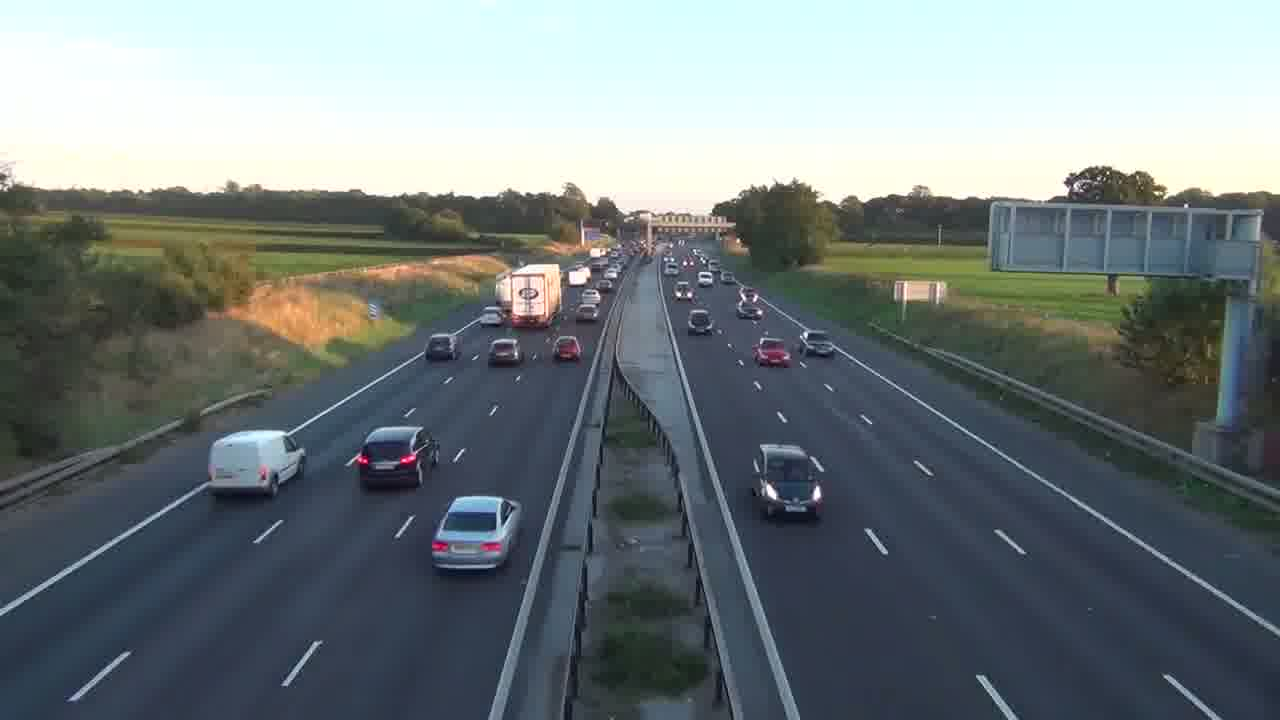car: (430, 494, 523, 574), (346, 425, 440, 489), (751, 442, 825, 521), (753, 336, 792, 368), (488, 336, 521, 367), (425, 333, 460, 362), (800, 333, 836, 358), (554, 335, 582, 363), (687, 308, 713, 335)
truck: (207, 428, 307, 499), (497, 262, 563, 328)
